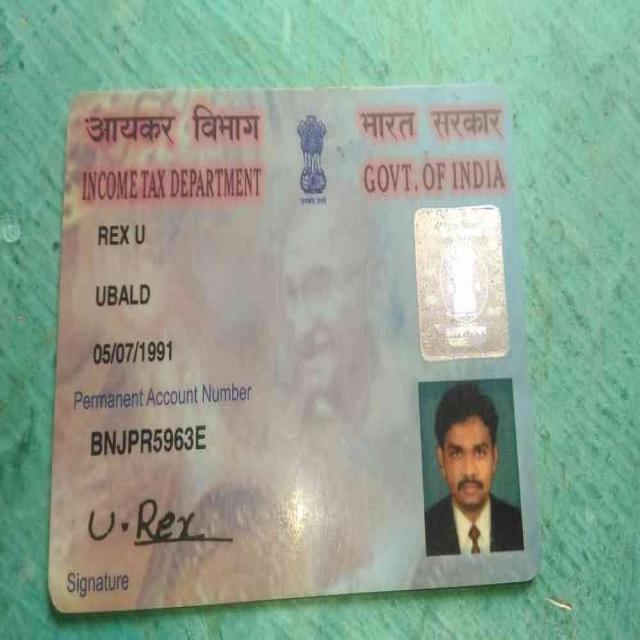pan_card: (55, 84, 533, 609)
